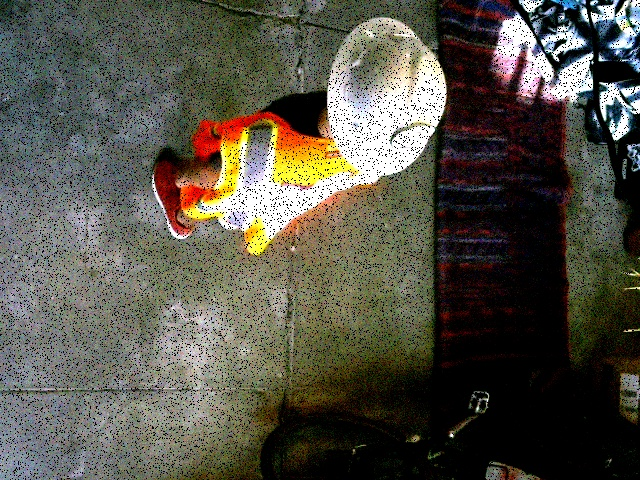two: (389, 123, 436, 155)
